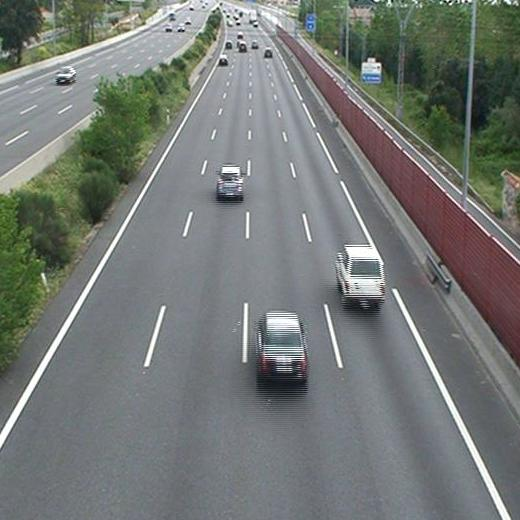car: (258, 313, 308, 377), (337, 246, 386, 302), (217, 166, 243, 195), (219, 55, 229, 65), (238, 42, 247, 50), (264, 49, 272, 57), (250, 41, 258, 48), (224, 41, 233, 47)
